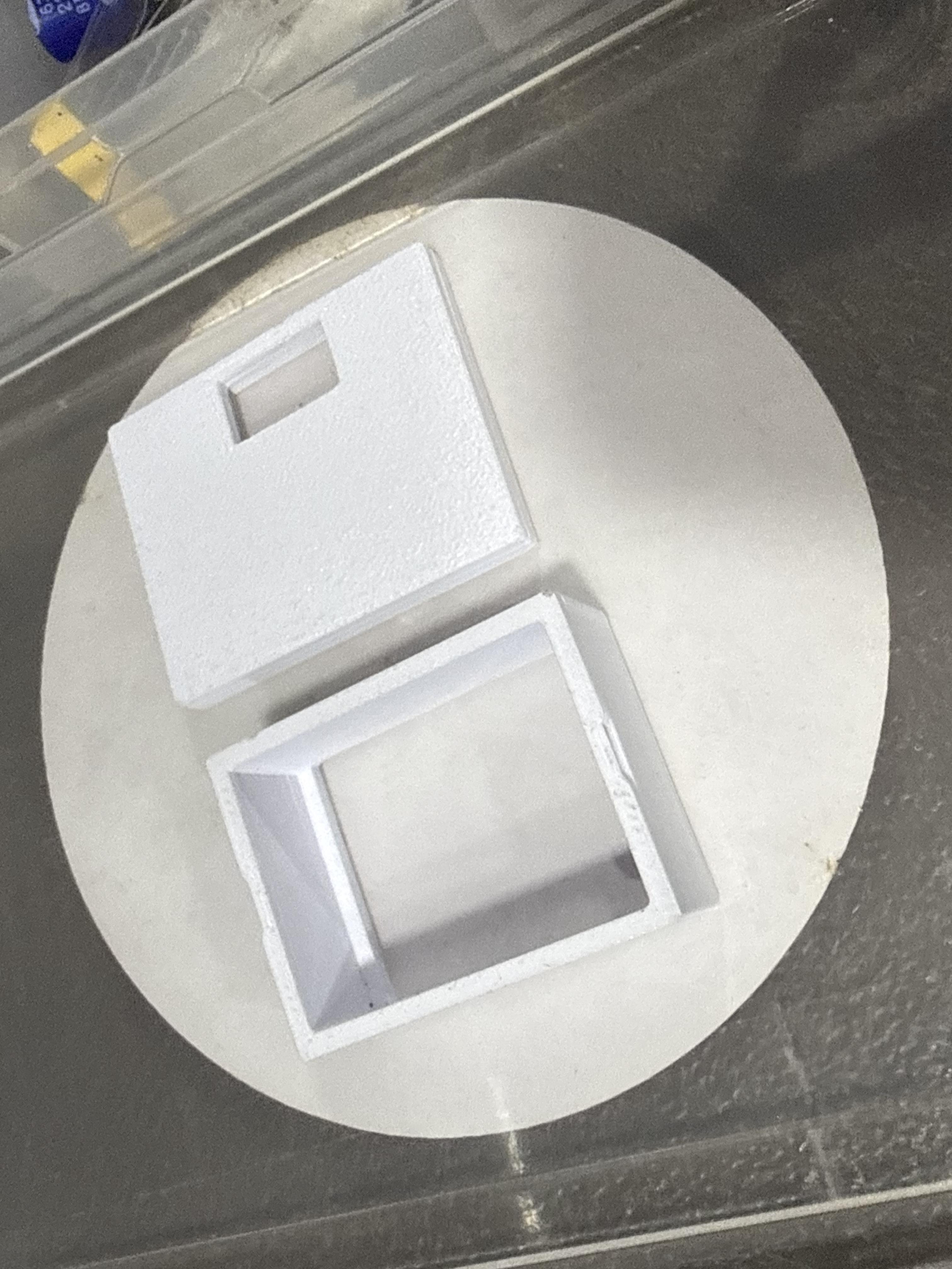enclosure: (105, 241, 721, 1062)
